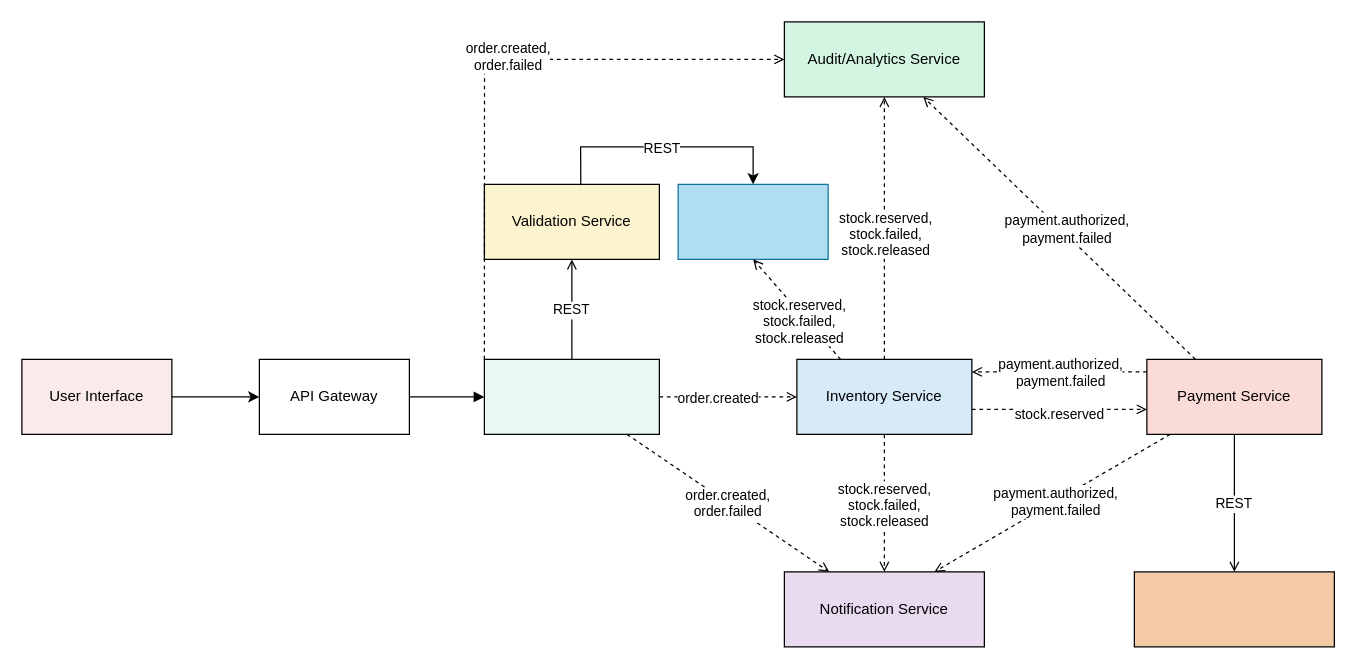
Image size: 1356x669. Some labels were removed from this diagram. The shapes that lost their labels are listed below. From the top down, each one's box as (x1, y1, x2, y2) in pixels, then its label:
(677, 183, 828, 259): Inventory Cache Service
(483, 358, 659, 434): Checkout Service
(1133, 571, 1334, 647): External Payment Gateway
